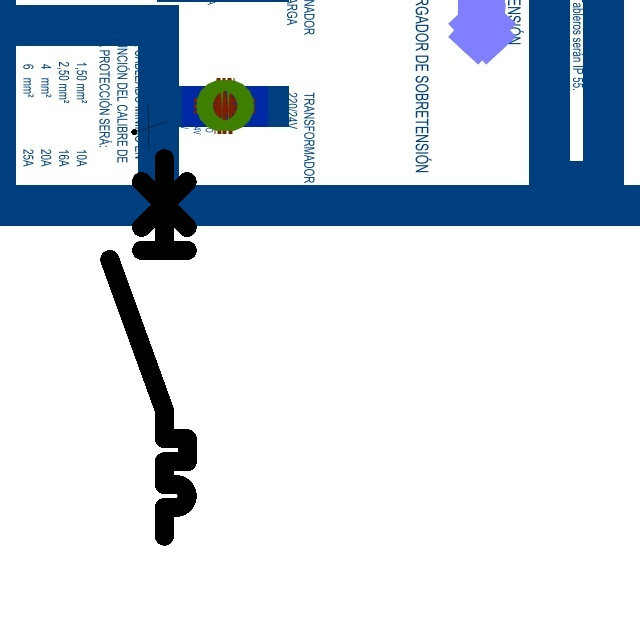interruptor_termomagnetico: (100, 148, 197, 545)
